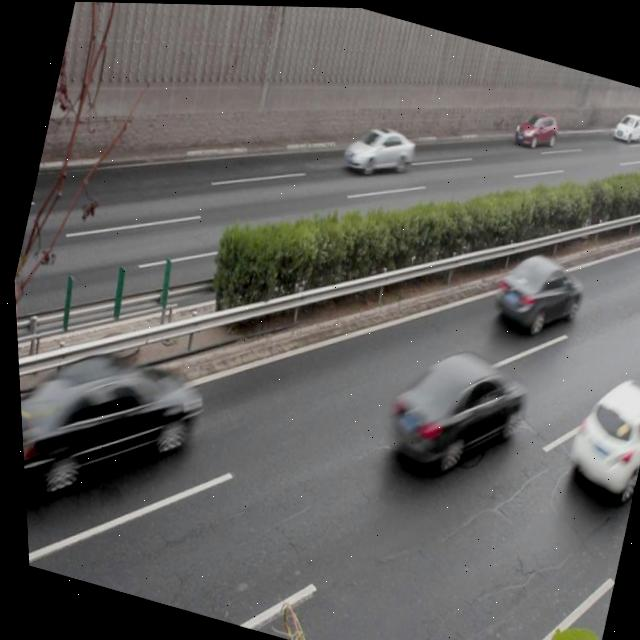car: (13, 330, 208, 524), (370, 331, 530, 486), (551, 360, 640, 500), (481, 241, 588, 344), (336, 115, 417, 186), (507, 102, 559, 151)
